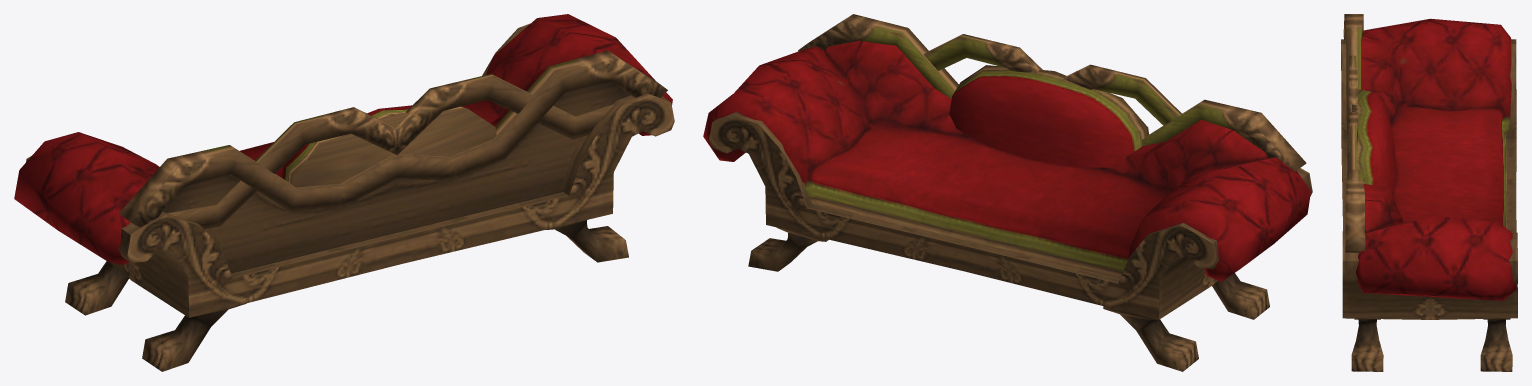
The model's file is d_yz_shouyou_shafa01_qt.FBX.
The picture shows the model from 3 angles, left to right: view 1: azimuth 30°, elevation 25°; view 2: azimuth 150°, elevation 25°; view 3: azimuth 270°, elevation 25°; orthographic projection. The views are drawn at different scales.
Parts seen in each view (by area): view 1: d_yz_shouyou_shafa01_qt; view 2: d_yz_shouyou_shafa01_qt; view 3: d_yz_shouyou_shafa01_qt.
Boxes of the visible parts, left/top/right/bottom form: d_yz_shouyou_shafa01_qt: left=14, top=14, right=674, bottom=371; d_yz_shouyou_shafa01_qt: left=703, top=14, right=1312, bottom=371; d_yz_shouyou_shafa01_qt: left=1341, top=14, right=1517, bottom=371.
Bounding box in the file's own units: 168 × 58.9 × 52.56.
